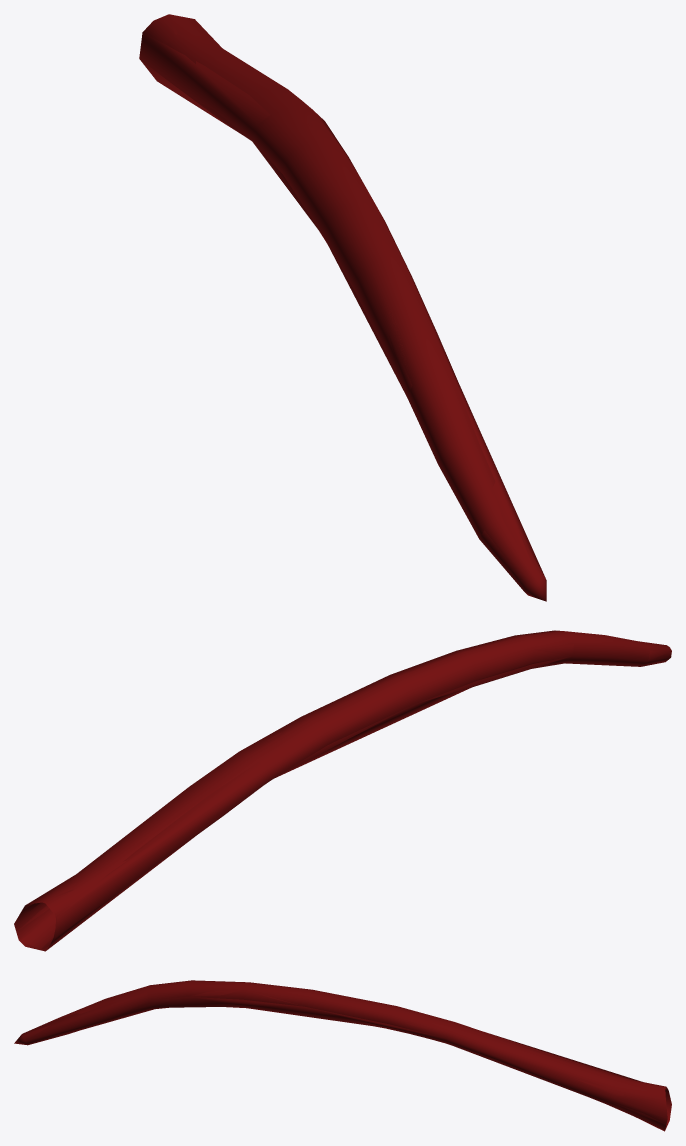
Rendered from L arteria lingualis.fbx.
3 views of the same model, one above another, from view 1: azimuth 30°, elevation 25°; view 2: azimuth 150°, elevation 25°; view 3: azimuth 270°, elevation 25° (orthographic). The views are drawn at different scales.
Visible parts, largest first — view 1: L arteria lingualis, L arteria lingualis low, L arteria lingualis high; view 2: L arteria lingualis, L arteria lingualis low, L arteria lingualis high; view 3: L arteria lingualis, L arteria lingualis low, L arteria lingualis high.
Boxes of the visible parts, x1,y1,x2,y2 form: L arteria lingualis: (142,14,546,601); L arteria lingualis low: (139,15,545,584); L arteria lingualis high: (162,18,515,551); L arteria lingualis: (14,630,671,951); L arteria lingualis low: (14,641,671,951); L arteria lingualis high: (16,659,584,949); L arteria lingualis: (14,980,671,1131); L arteria lingualis low: (24,989,669,1129); L arteria lingualis high: (57,989,671,1130).
Size of the model in its own units: 2.82 by 1.51 by 9.7.
